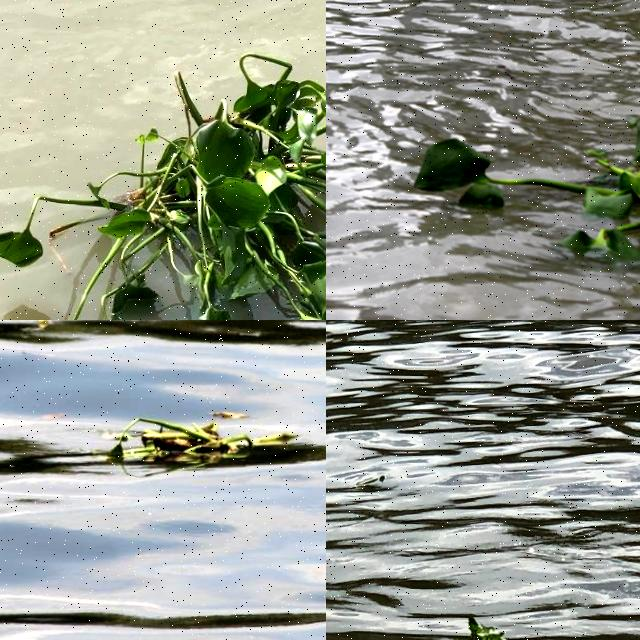water-hyacinth: (1, 46, 327, 321), (414, 114, 640, 270), (106, 404, 281, 474), (463, 615, 514, 640)
